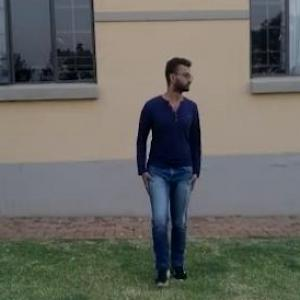follow: (133, 47, 209, 290)
